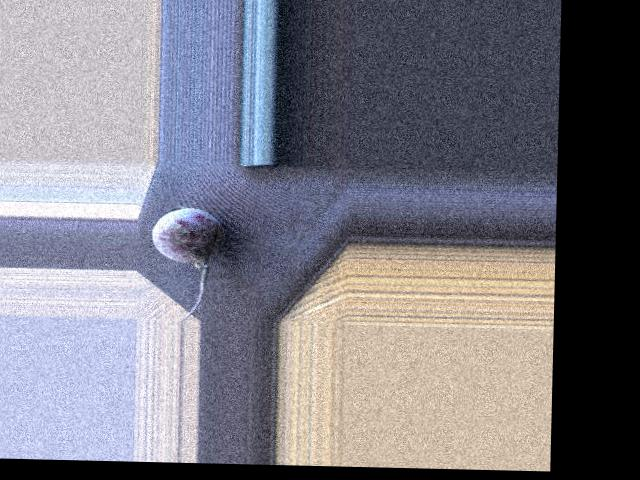beet: (150, 207, 226, 321)
